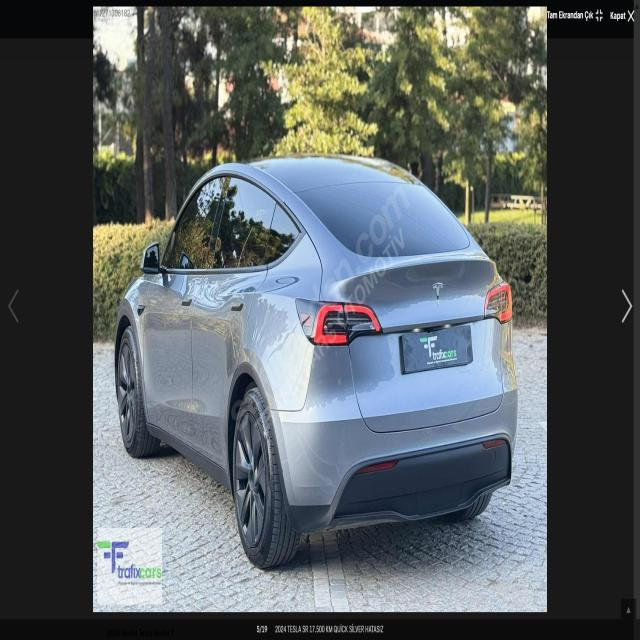tesla: (427, 270, 452, 316)
